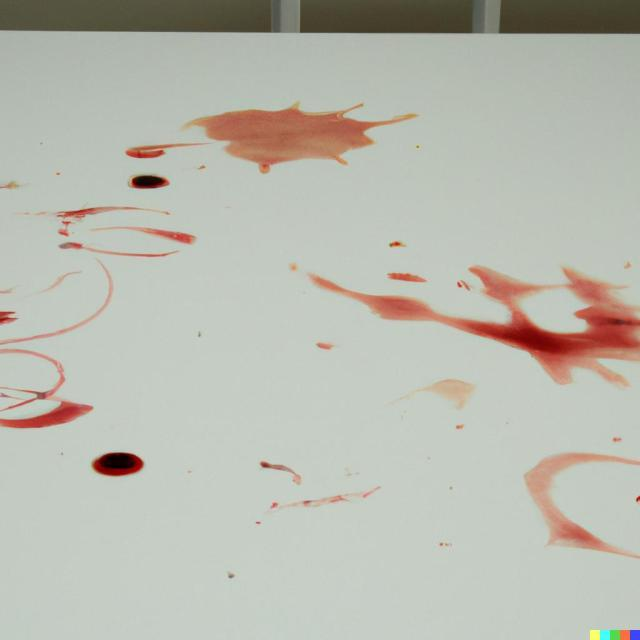flood: (322, 262, 640, 374), (186, 68, 406, 222), (14, 148, 185, 293), (2, 328, 154, 488), (496, 428, 640, 594)
